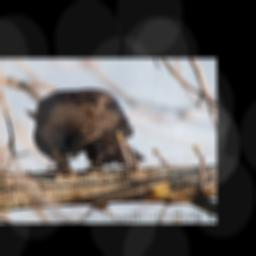Crow: (22, 88, 148, 178)
